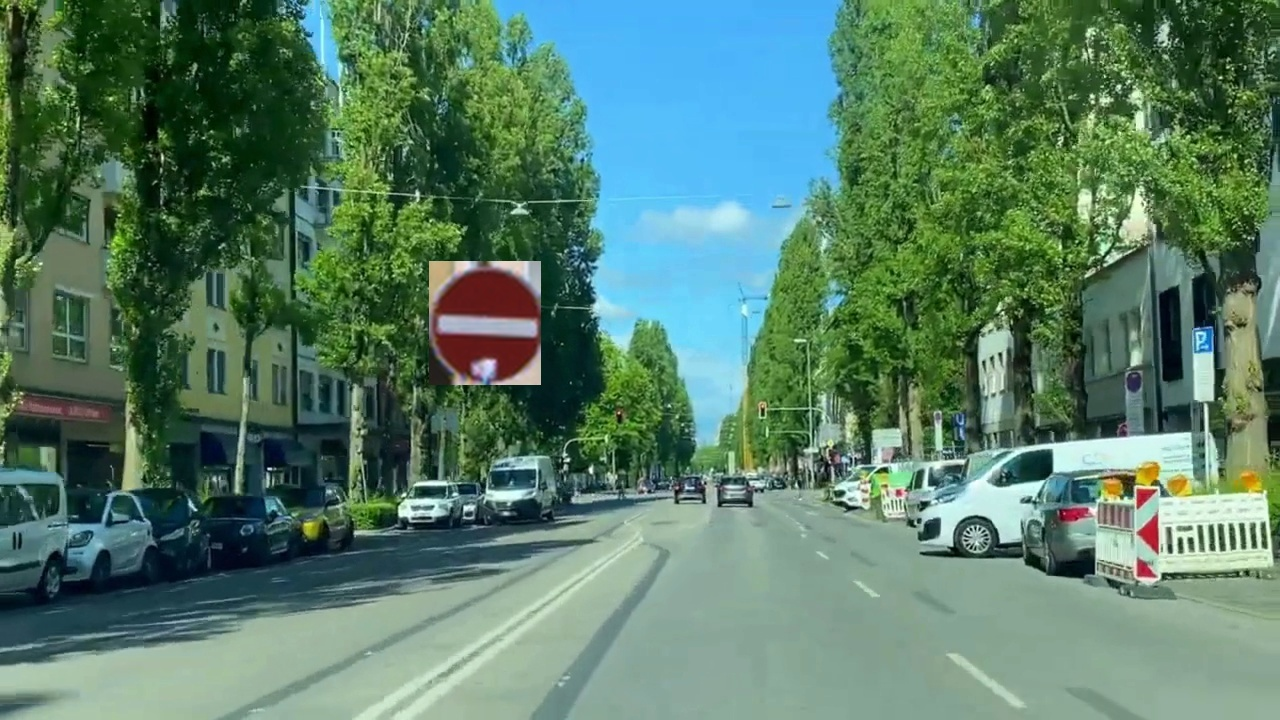No entry: (429, 261, 541, 385)
